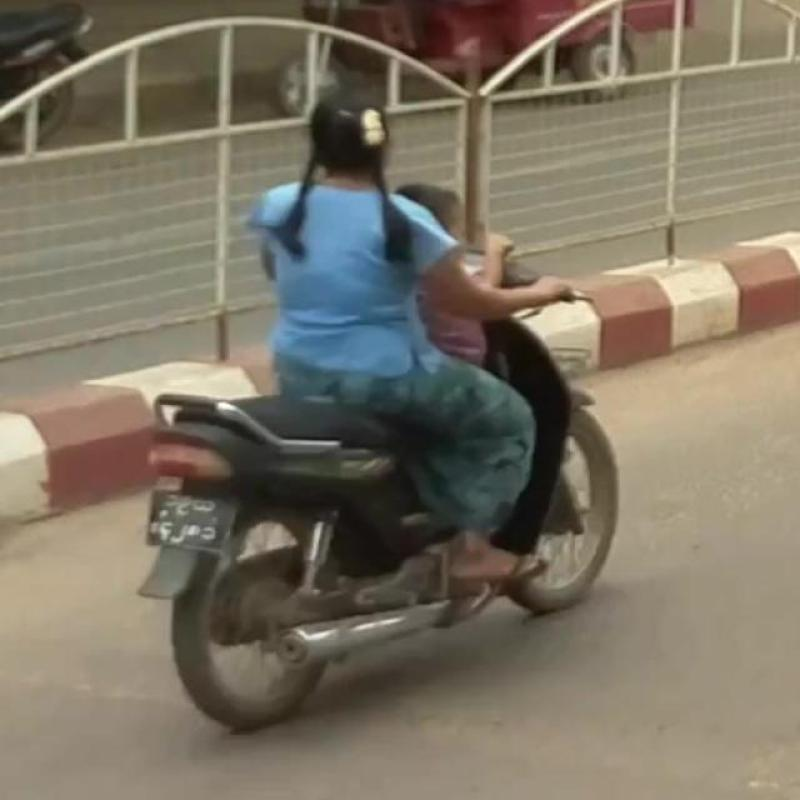nohelmet: (298, 75, 457, 214)
